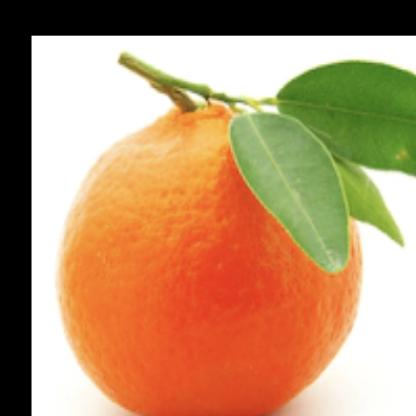fresh: (60, 83, 360, 416)
